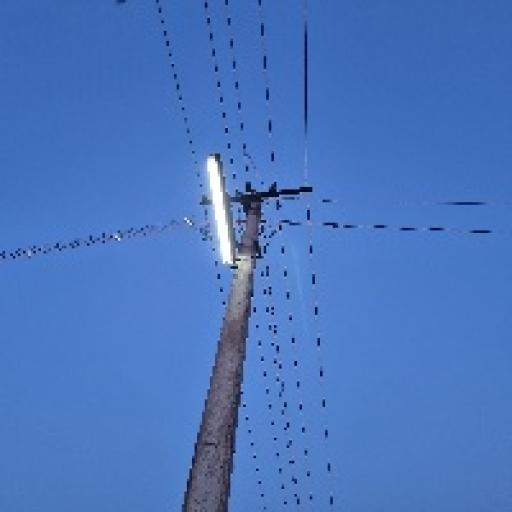Working: (194, 147, 249, 269)
